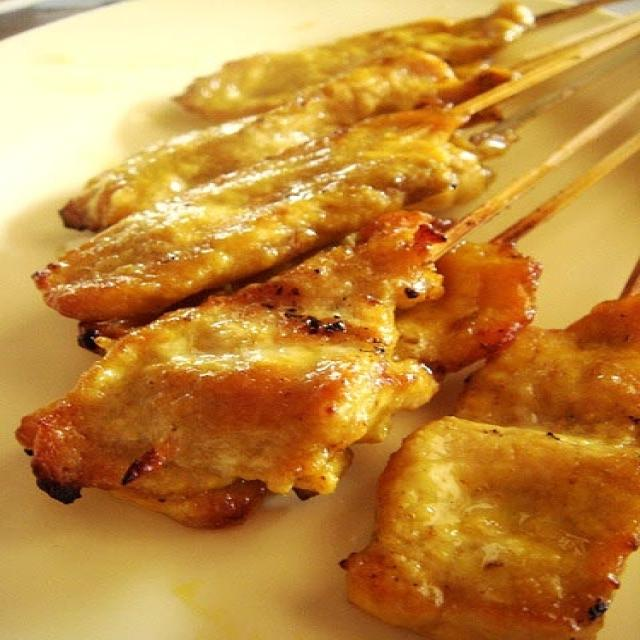牛肉菜式: (42, 26, 612, 613)
